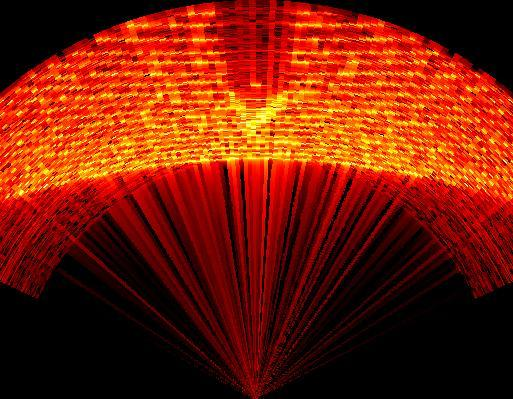box_crate: (214, 2, 298, 106)
